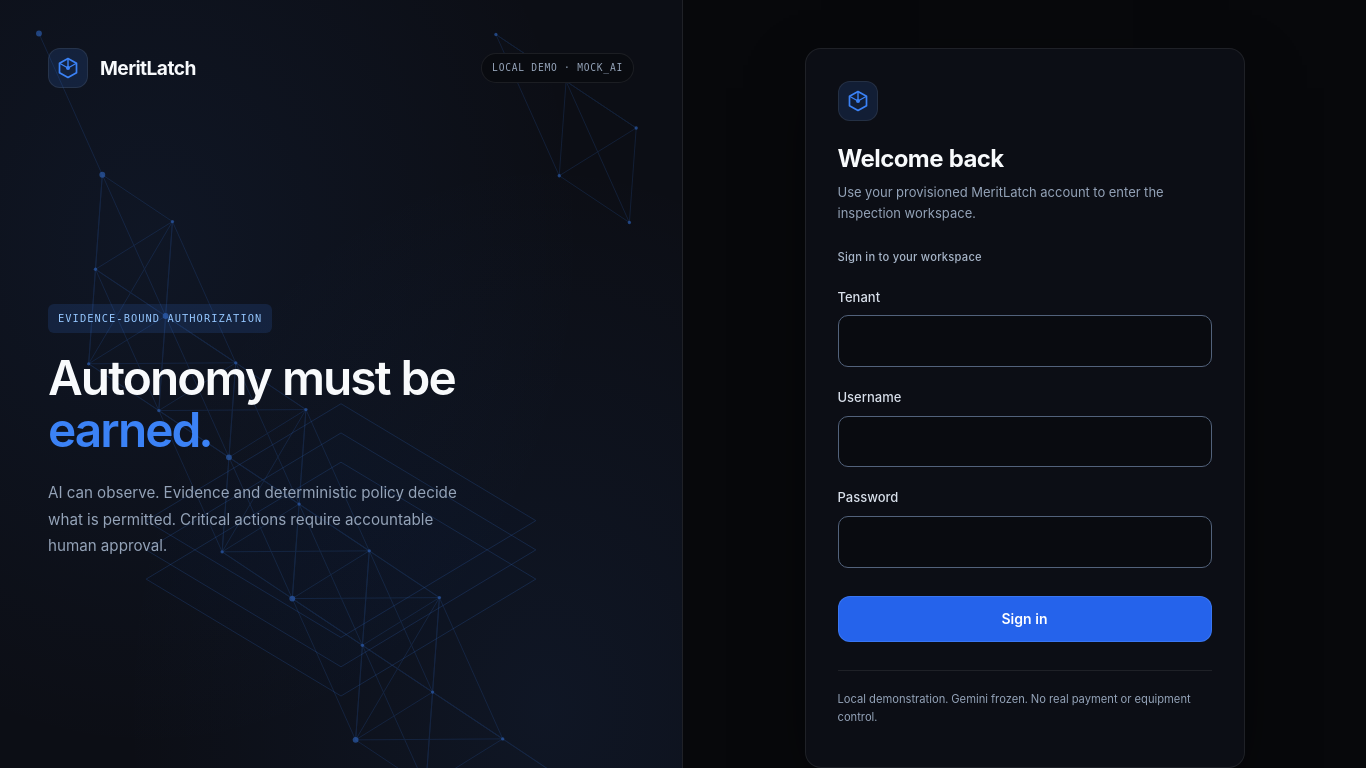
Scenario: authenticates then navigates by backend role, with empty state and logout
Type "a" into the field labelled "Tenant" at {"x": 1024, "y": 341}, box [838,315,1212,367]
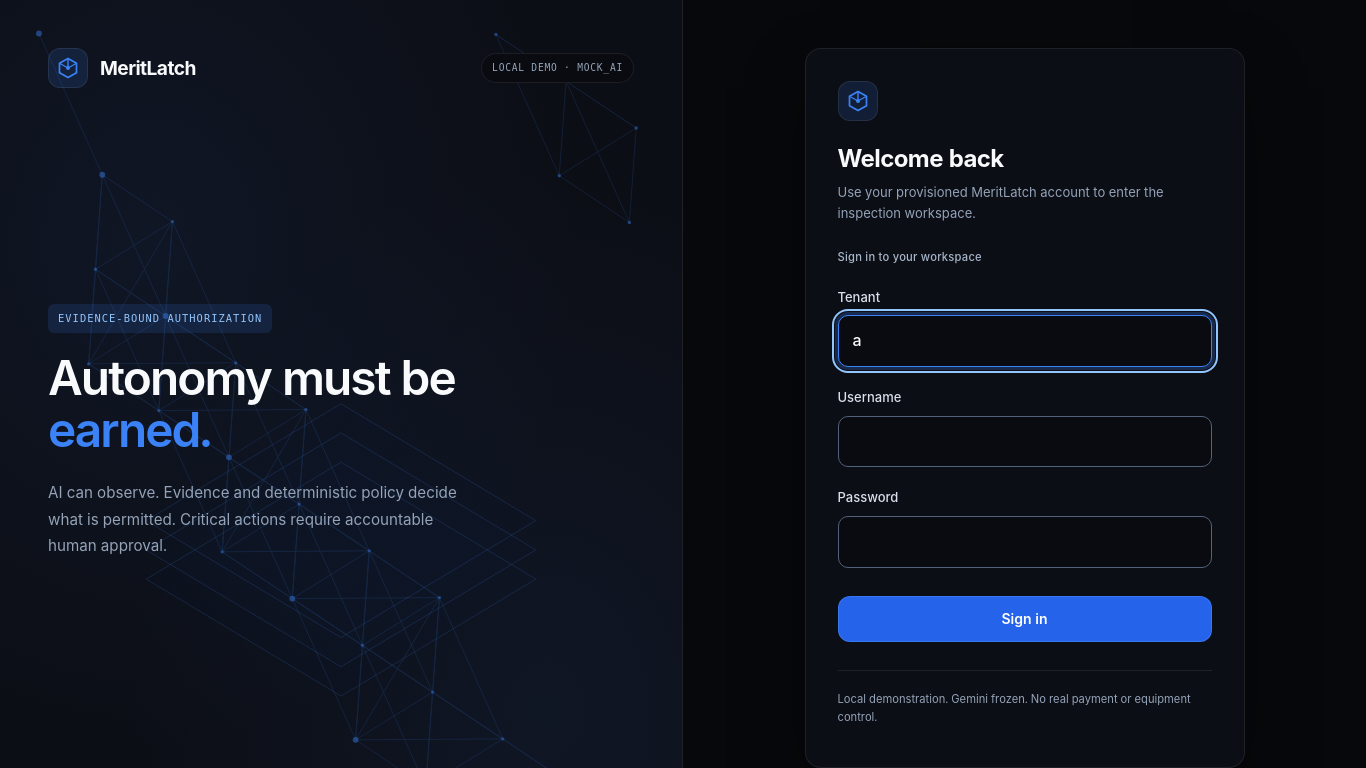
Type "fictional" into the field labelled "Username" at {"x": 1024, "y": 442}, box [838,416,1212,467]
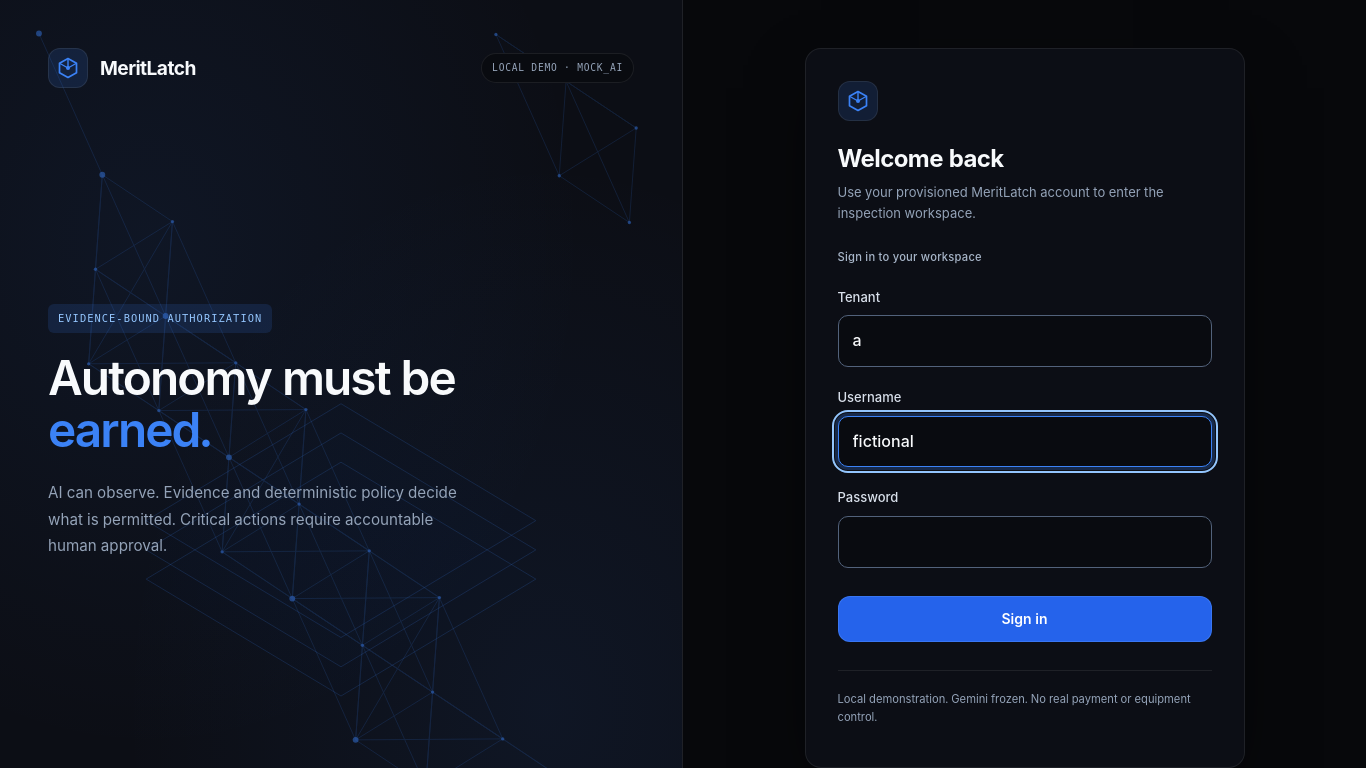
Type "fictional-password" into the password field labelled "Password" at {"x": 1024, "y": 542}, box [838,516,1212,568]
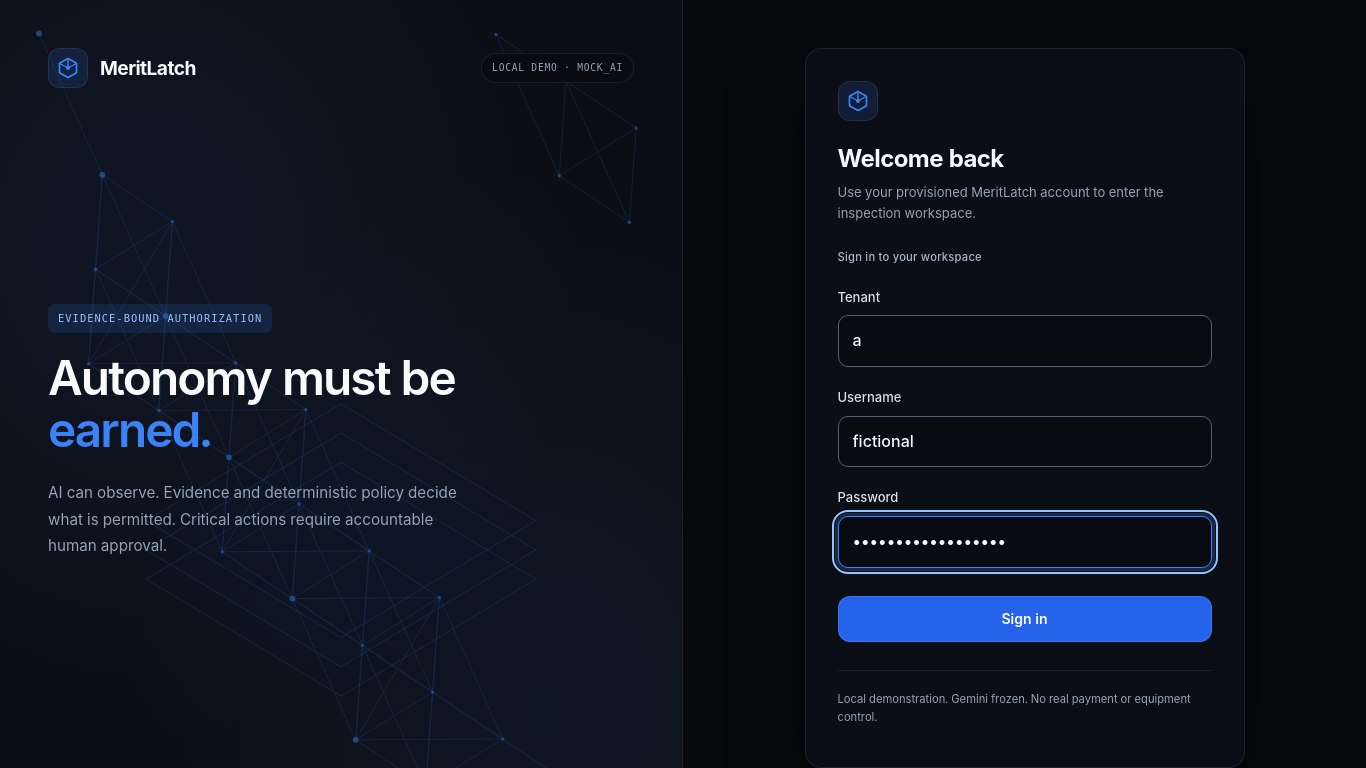
Click the button "Sign in" at {"x": 1024, "y": 619}, box [838,596,1212,642]
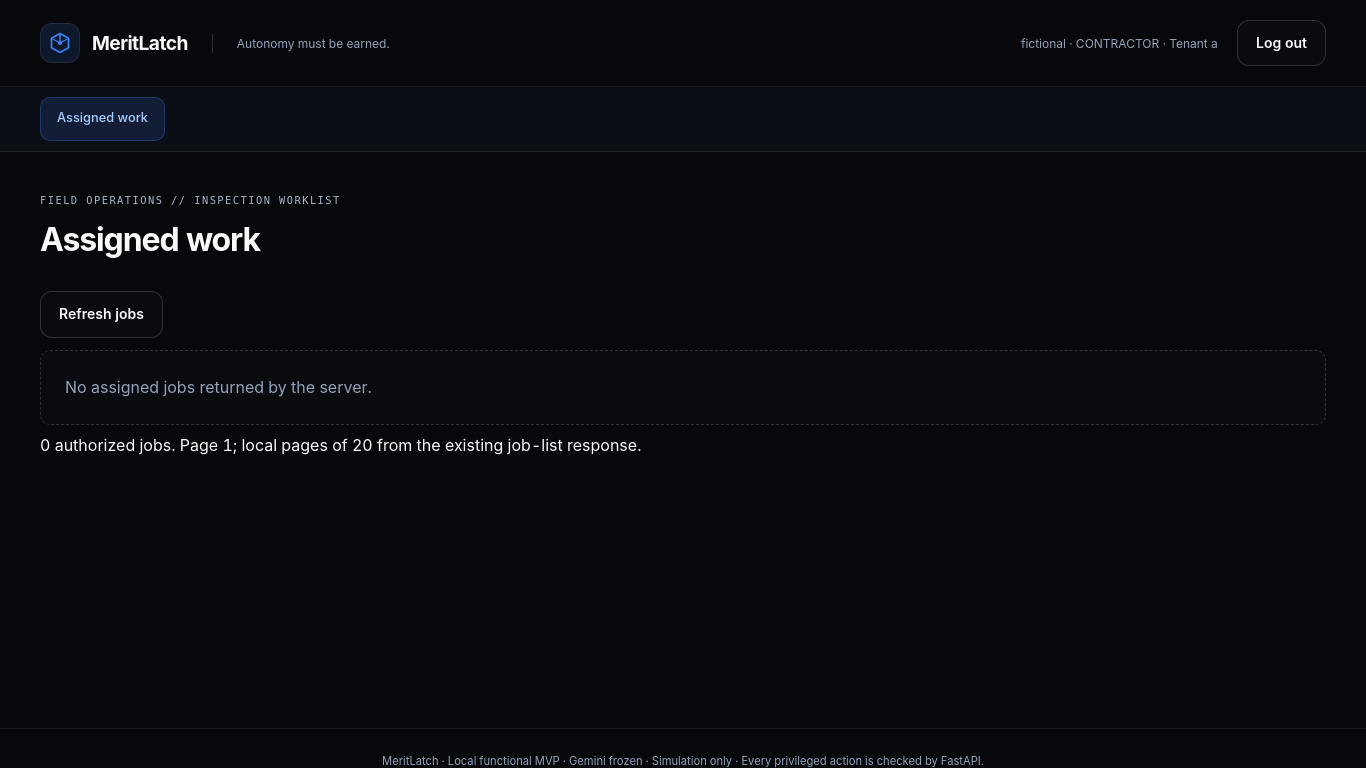
Expected: the heading "Assigned work" is shown, [40,220,260,259]
Expected: the text "No assigned jobs returned by the server." is shown, [40,350,1326,425]
Click the button "Log out" at {"x": 1282, "y": 43}, box [1237,20,1326,66]
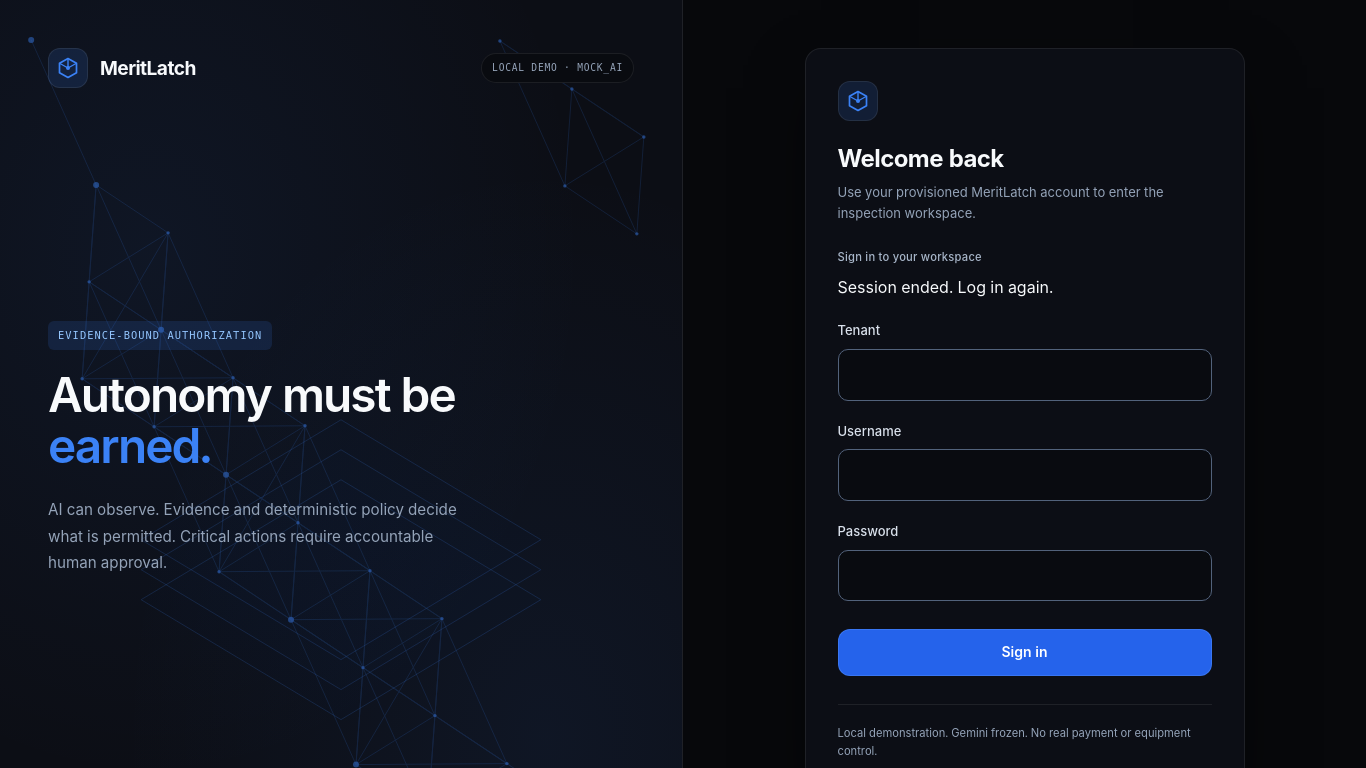
Expected: the heading "Sign in to your workspace" is shown, [838,250,982,264]
